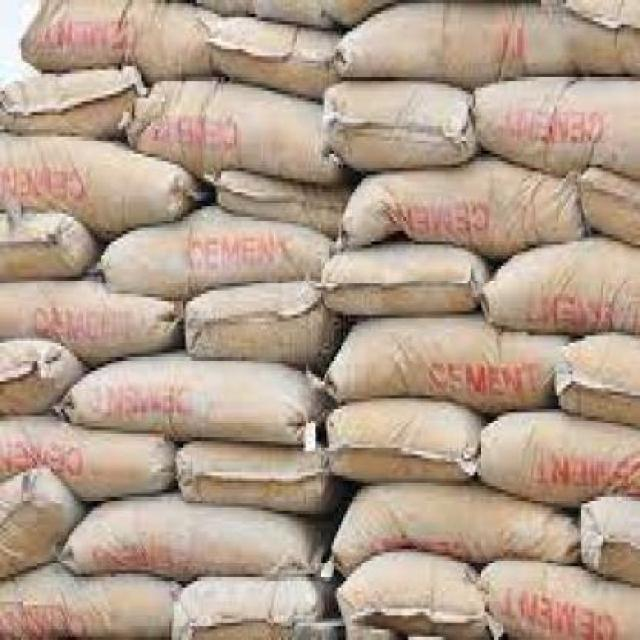gunny_bag: (334, 0, 640, 83), (339, 159, 590, 258), (131, 76, 331, 188), (332, 483, 577, 571), (58, 498, 317, 580), (98, 207, 330, 297), (53, 366, 316, 444), (1, 137, 207, 229), (328, 326, 567, 404), (479, 70, 640, 183), (1, 277, 179, 366), (480, 412, 640, 506), (0, 418, 179, 501), (334, 544, 488, 639), (482, 245, 640, 337), (30, 0, 219, 75), (0, 563, 181, 640), (325, 83, 471, 172), (479, 563, 640, 640), (318, 248, 479, 320), (328, 409, 481, 482), (187, 283, 321, 366), (324, 405, 477, 477), (209, 22, 346, 99), (0, 68, 145, 135), (174, 575, 325, 639), (0, 464, 83, 579), (213, 170, 351, 238), (175, 445, 328, 506), (558, 337, 640, 426), (0, 207, 94, 281), (0, 340, 82, 416), (220, 0, 389, 29), (578, 502, 640, 580), (581, 172, 640, 246)
